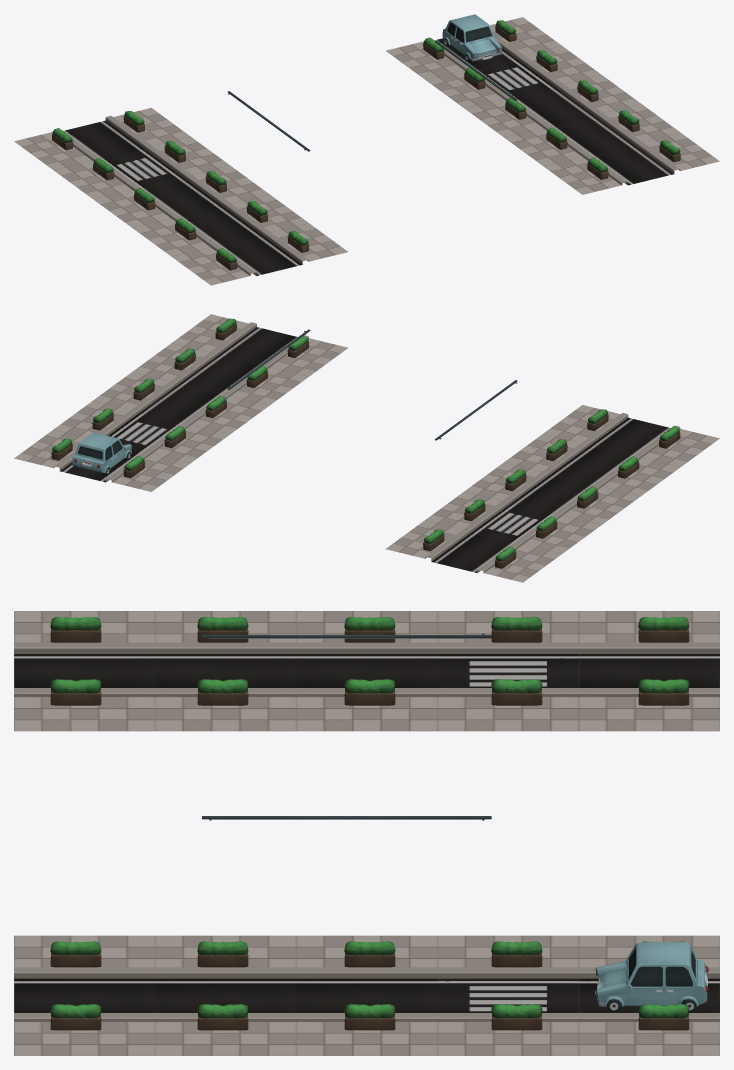
The model's file is Outside_Light.fbx.
3 renders of one model, top to bottom at view 1: azimuth 30°, elevation 25°; view 2: azimuth 150°, elevation 25°; view 3: azimuth 270°, elevation 25°, orthographic. The views are drawn at different scales.
Visible parts, largest first — view 1: SideWalk_L, SideWalk_R, Road_L, Road_R, Plants_L, Plants_R, Car, Light; view 2: SideWalk_L, SideWalk_R, Road_L, Road_R, Plants_L, Plants_R, Car, Light; view 3: SideWalk_L, SideWalk_R, Road_L, Road_R, Plants_L, Plants_R, Car, Light.
Boxes of the visible parts, x1=… form: SideWalk_L: x1=14, y1=108, x2=347, y2=285; SideWalk_R: x1=386, y1=17, x2=719, y2=194; Road_L: x1=63, y1=120, x2=302, y2=275; Road_R: x1=435, y1=38, x2=673, y2=185; Plants_L: x1=52, y1=111, x2=309, y2=270; Plants_R: x1=423, y1=20, x2=680, y2=179; Car: x1=442, y1=14, x2=502, y2=61; Light: x1=227, y1=40, x2=517, y2=151; SideWalk_L: x1=385, y1=405, x2=719, y2=582; SideWalk_R: x1=14, y1=314, x2=348, y2=491; Road_L: x1=431, y1=417, x2=670, y2=572; Road_R: x1=60, y1=327, x2=297, y2=482; Plants_L: x1=423, y1=409, x2=680, y2=568; Plants_R: x1=51, y1=318, x2=309, y2=478; Car: x1=72, y1=432, x2=131, y2=473; Light: x1=227, y1=329, x2=517, y2=440; SideWalk_L: x1=14, y1=611, x2=719, y2=731; SideWalk_R: x1=14, y1=935, x2=719, y2=1055; Road_L: x1=14, y1=654, x2=719, y2=687; Road_R: x1=14, y1=978, x2=719, y2=1012; Plants_L: x1=50, y1=617, x2=689, y2=705; Plants_R: x1=50, y1=941, x2=689, y2=1030; Car: x1=595, y1=942, x2=708, y2=1006; Light: x1=202, y1=633, x2=491, y2=820.
Size of the model in its own units: 2651 by 308 by 1778.
